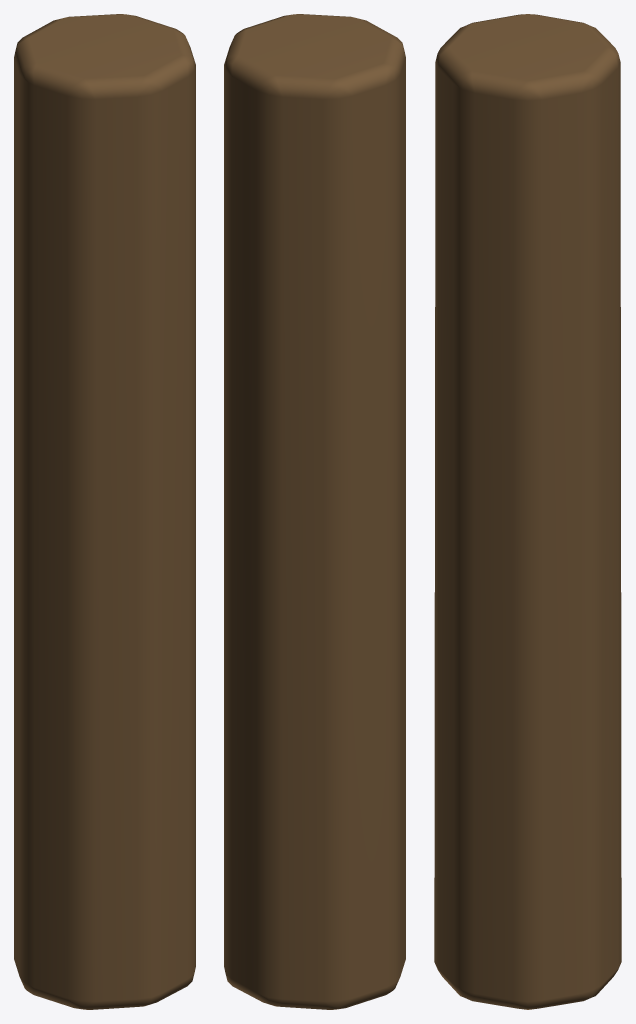
Rendered from fence_post.glb.
The picture shows the model from 3 angles, left to right: view 1: azimuth 30°, elevation 25°; view 2: azimuth 150°, elevation 25°; view 3: azimuth 270°, elevation 25°; orthographic projection.
Parts seen in each view (by area): view 1: fence_post; view 2: fence_post; view 3: fence_post.
Boxes of the visible parts, bbox=[...] form: fence_post: bbox=[14, 14, 195, 1009]; fence_post: bbox=[224, 14, 405, 1009]; fence_post: bbox=[434, 14, 621, 1009].
Bounding box in the file's own units: 0.1162 × 0.64 × 0.1168.
